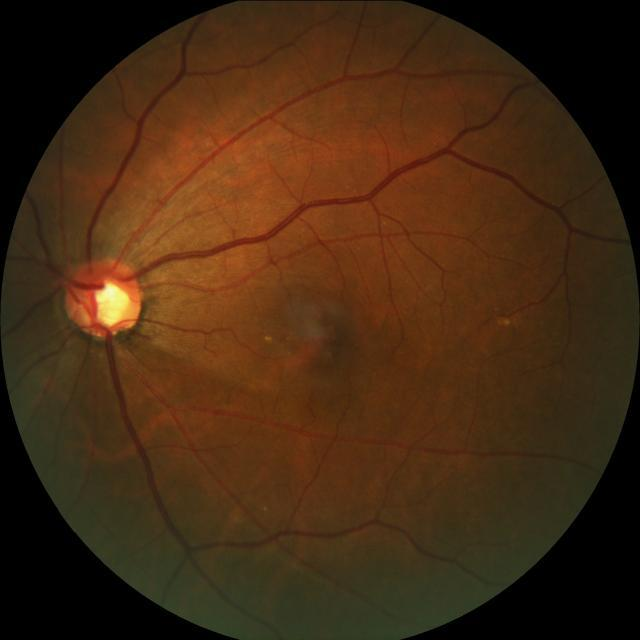OC: (93, 279, 132, 325)
OD: (67, 258, 145, 336)
